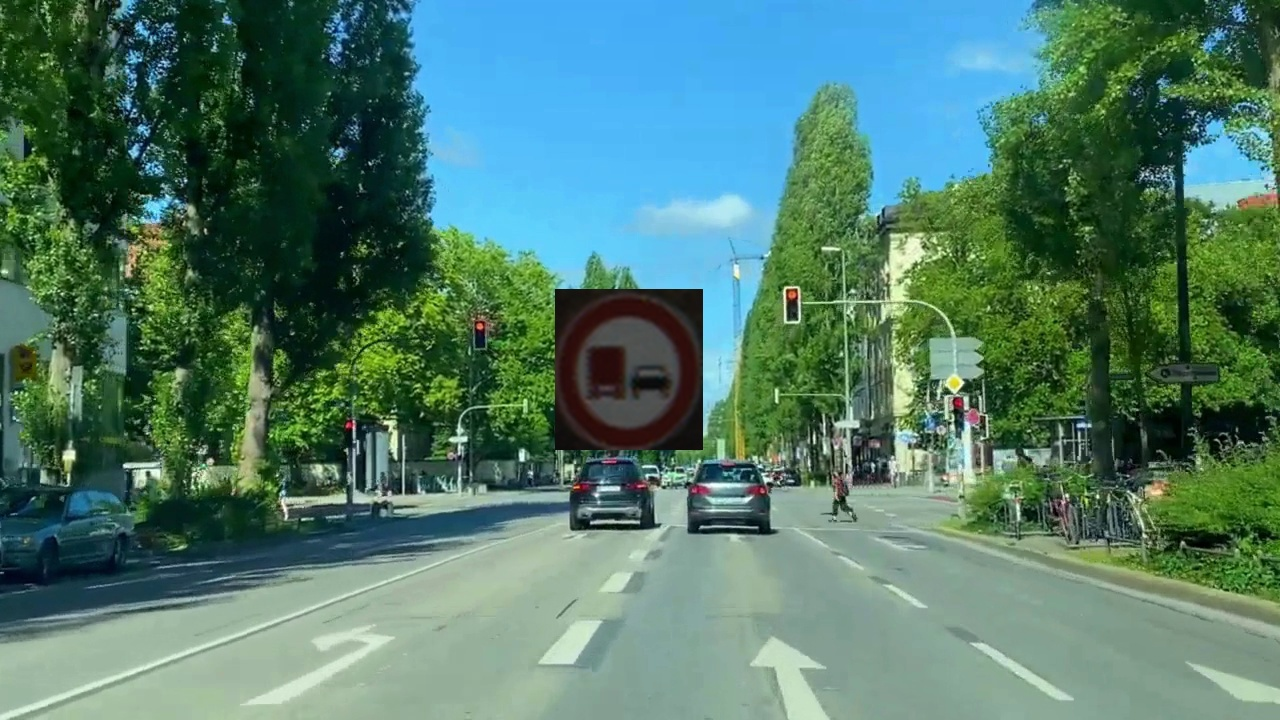No pass >3.5t: (555, 289, 703, 450)
